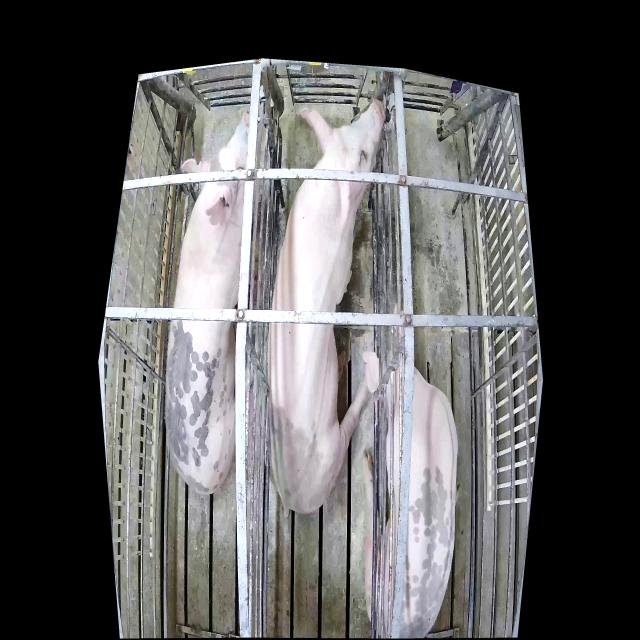pig: (267, 101, 384, 516), (165, 103, 258, 493), (363, 326, 458, 635)
